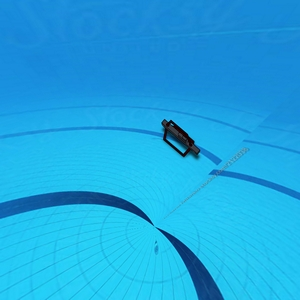submarine: (162, 116, 200, 159)
